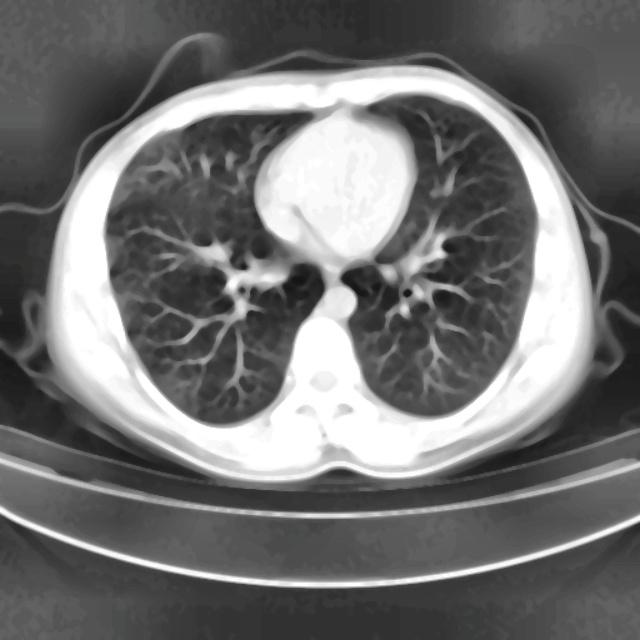covid: (11, 41, 631, 490)
